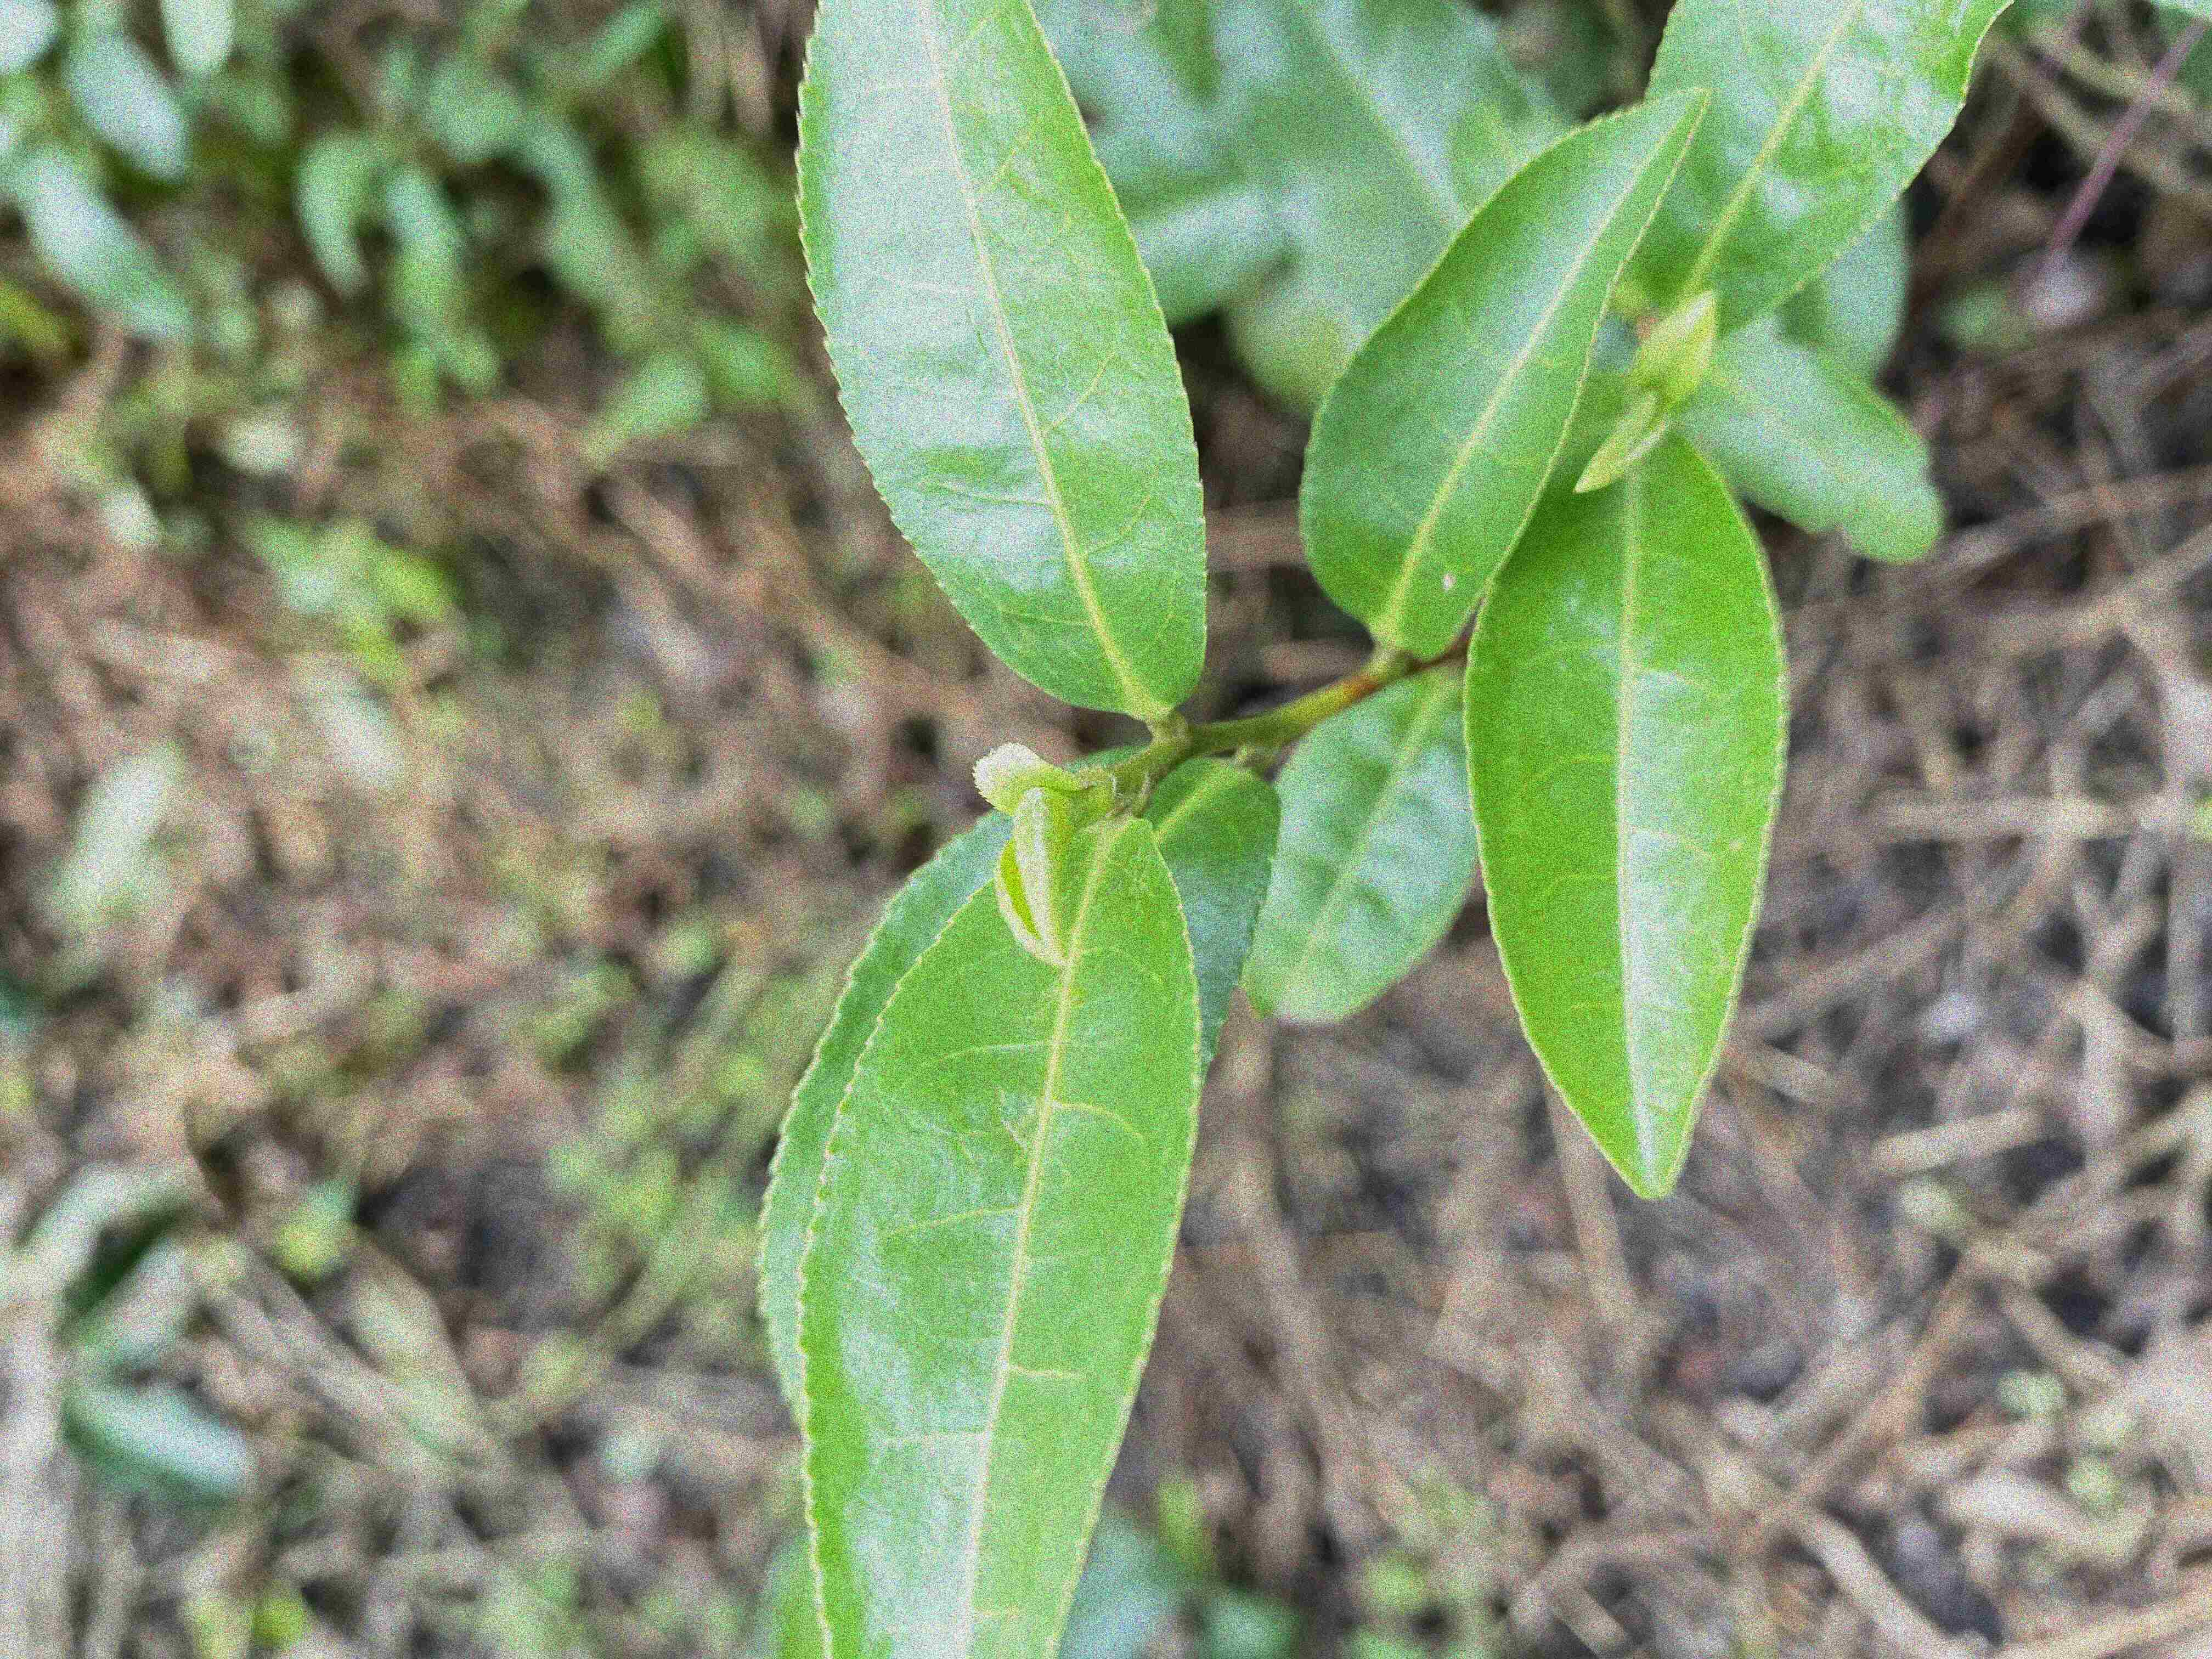healthy: (792, 810, 1204, 1657), (794, 0, 1211, 716), (1465, 423, 1784, 1204), (1294, 87, 1707, 660)
